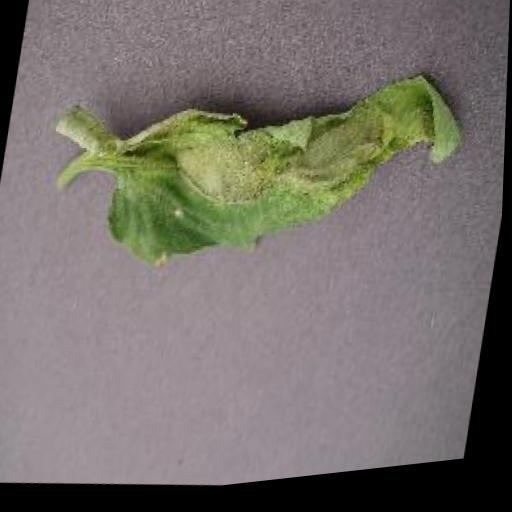Late Blight: (98, 44, 479, 311)
